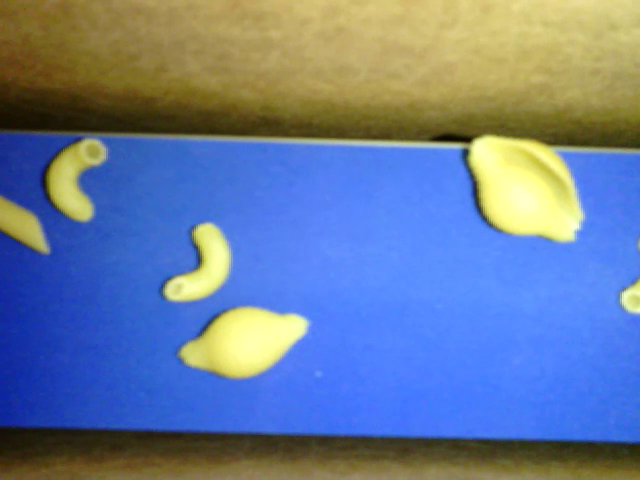elbow: (160, 221, 232, 300), (44, 137, 108, 223)
penne: (1, 196, 49, 254)
shell: (467, 134, 583, 242), (178, 305, 310, 377)
